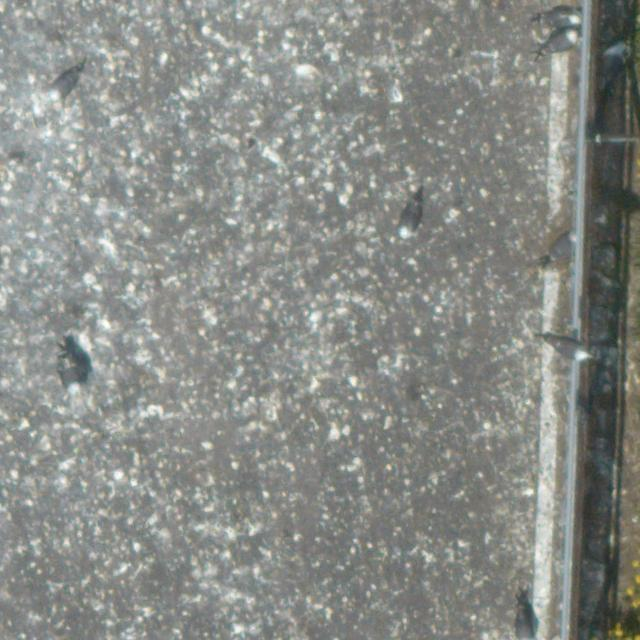umineko: (62, 340, 84, 396), (48, 67, 84, 100), (546, 337, 594, 361), (546, 232, 576, 270), (399, 203, 418, 237), (544, 29, 576, 49), (542, 12, 578, 27)
